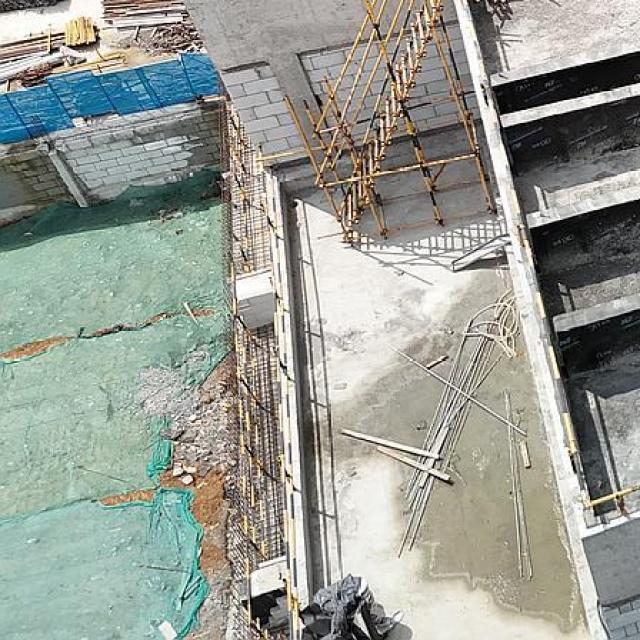edge_guardrail: (458, 0, 640, 515), (224, 103, 269, 640), (257, 145, 304, 640)
